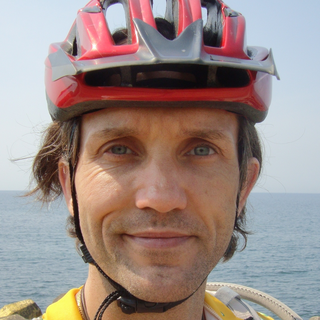eye: (178, 139, 224, 164), (97, 139, 143, 163)
